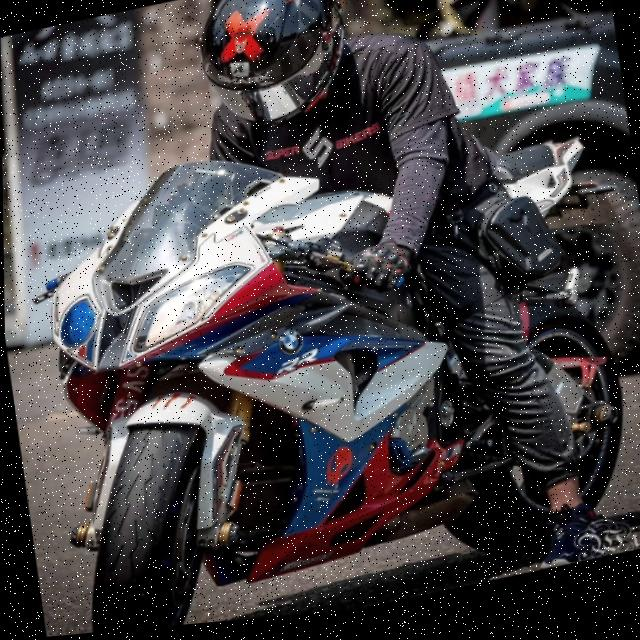helmet: (186, 0, 364, 152)
